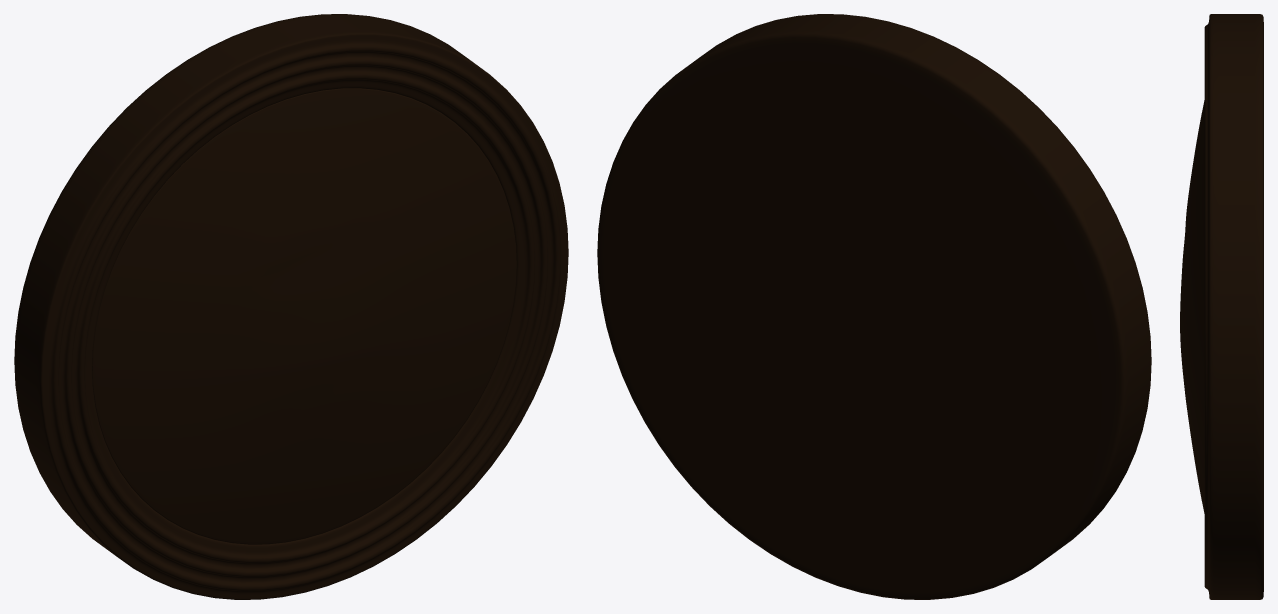
The model's file is clock.obj.
3 renders of one model, left to right at view 1: azimuth 30°, elevation 25°; view 2: azimuth 150°, elevation 25°; view 3: azimuth 270°, elevation 25°, orthographic. The views are drawn at different scales.
Visible parts, largest first — view 1: Glass, Frame; view 2: Frame; view 3: Frame, Glass.
Boxes of the visible parts, x1,y1,x2,y2 form: Glass: [92, 88, 516, 544]; Frame: [14, 14, 568, 599]; Frame: [597, 14, 1151, 599]; Frame: [1204, 14, 1263, 599]; Glass: [1180, 100, 1204, 513].
Size of the model in its own units: 589 by 589 by 84.37.
